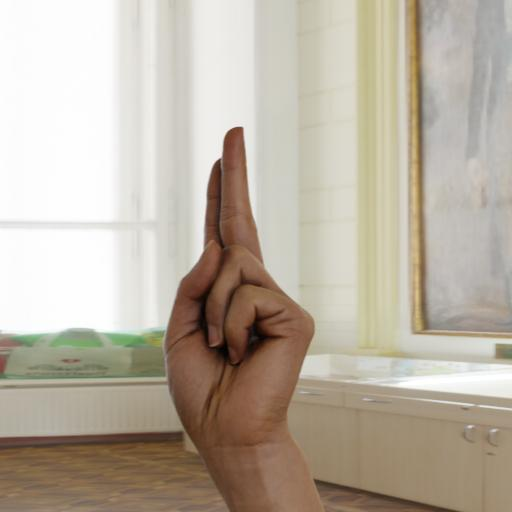U: (158, 114, 320, 452)
